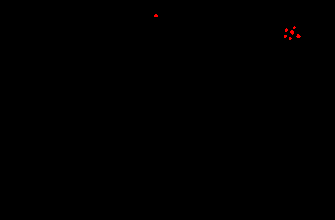Target: (290, 30, 294, 35), (296, 34, 301, 38), (154, 14, 158, 17), (285, 28, 288, 32), (293, 26, 296, 29), (284, 35, 287, 38), (289, 37, 292, 40)
